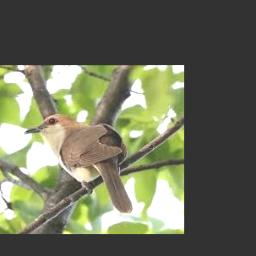Cuckoo: (25, 113, 133, 214)
